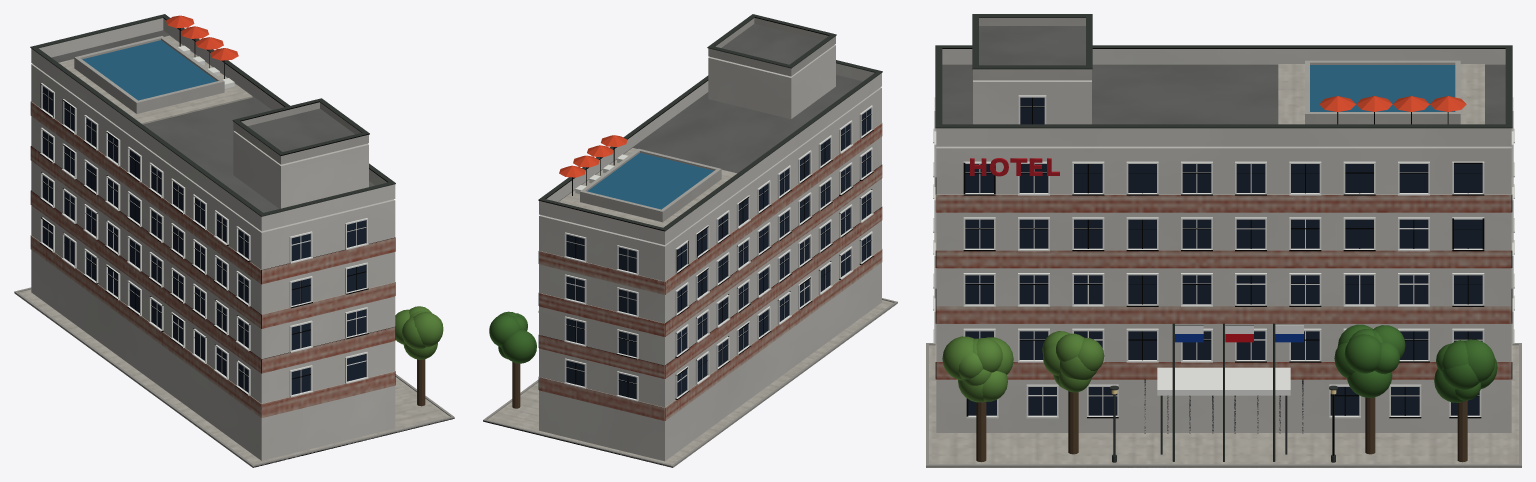
File: dum_07_hotel.glb
3 views of the same model, side by side, from view 1: azimuth 30°, elevation 25°; view 2: azimuth 150°, elevation 25°; view 3: azimuth 270°, elevation 25° (orthographic). The views are drawn at different scales.
Visible parts, largest first — view 1: dlazba; view 2: dlazba; view 3: dlazba.
Part boxes in pixels (bbox=[...]): dlazba: bbox=[14, 14, 454, 467]; dlazba: bbox=[483, 14, 897, 467]; dlazba: bbox=[926, 14, 1521, 467].
Bounding box in the file's own units: 15.1 × 19.31 × 29.03.
Materials: 1 (1 with a texture image).
